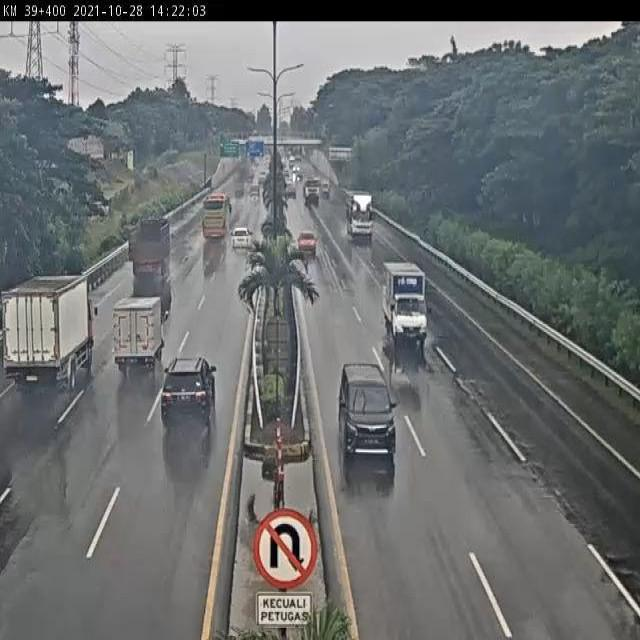big bus: (200, 191, 231, 241)
car: (339, 363, 399, 464), (160, 357, 216, 427), (229, 222, 254, 255), (298, 226, 318, 253)
truck-l-: (0, 277, 92, 392), (126, 216, 175, 283), (345, 188, 376, 247)
truck-s-: (111, 296, 171, 371), (383, 263, 429, 348)
